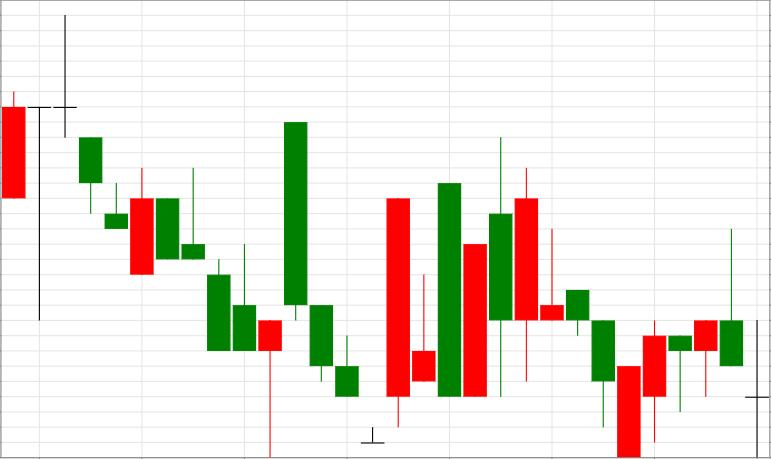hammer_rise: (52, 14, 282, 458)
